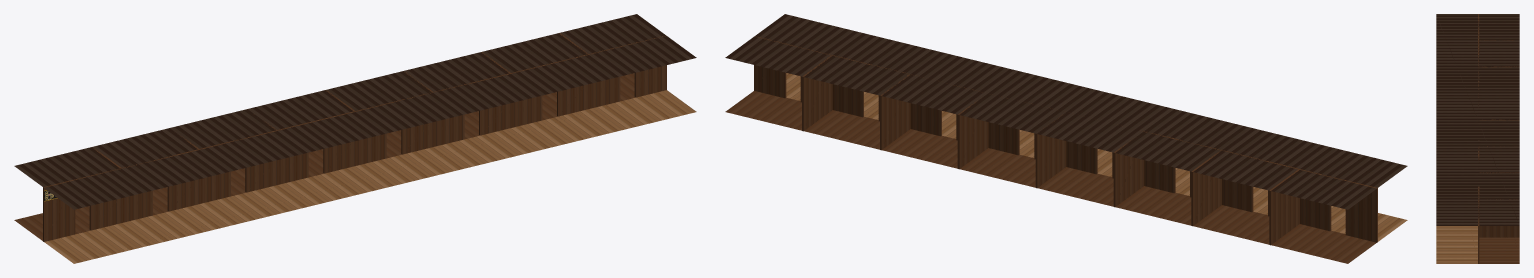
The model's file is interior.glb.
The picture shows the model from 3 angles, left to right: view 1: azimuth 30°, elevation 25°; view 2: azimuth 150°, elevation 25°; view 3: azimuth 270°, elevation 25°; orthographic projection. The views are drawn at different scales.
Parts seen in each view (by area): view 1: Int_Plafon, Int_Ruang_Bersama, Int_Sekat_Bilik, Int_Lantai_Bilik; view 2: Int_Plafon, Int_Sekat_Bilik, Int_Lantai_Bilik, Int_Ruang_Bersama; view 3: Int_Plafon, Int_Ruang_Bersama, Int_Lantai_Bilik, Int_Sekat_Bilik.
Boxes of the visible parts, left/top/right/bottom form: Int_Plafon: left=14, top=14, right=696, bottom=209; Int_Ruang_Bersama: left=44, top=90, right=696, bottom=263; Int_Sekat_Bilik: left=43, top=33, right=666, bottom=241; Int_Lantai_Bilik: left=14, top=73, right=635, bottom=240; Int_Plafon: left=725, top=14, right=1407, bottom=209; Int_Sekat_Bilik: left=754, top=36, right=1377, bottom=245; Int_Lantai_Bilik: left=725, top=91, right=1376, bottom=263; Int_Ruang_Bersama: left=786, top=73, right=1407, bottom=241; Int_Plafon: left=1436, top=14, right=1519, bottom=225; Int_Ruang_Bersama: left=1436, top=226, right=1477, bottom=263; Int_Lantai_Bilik: left=1479, top=237, right=1519, bottom=263; Int_Sekat_Bilik: left=1478, top=14, right=1519, bottom=263.
Size of the model in its own units: 36 by 3 by 6.
Materials: 4 (4 with a texture image).
